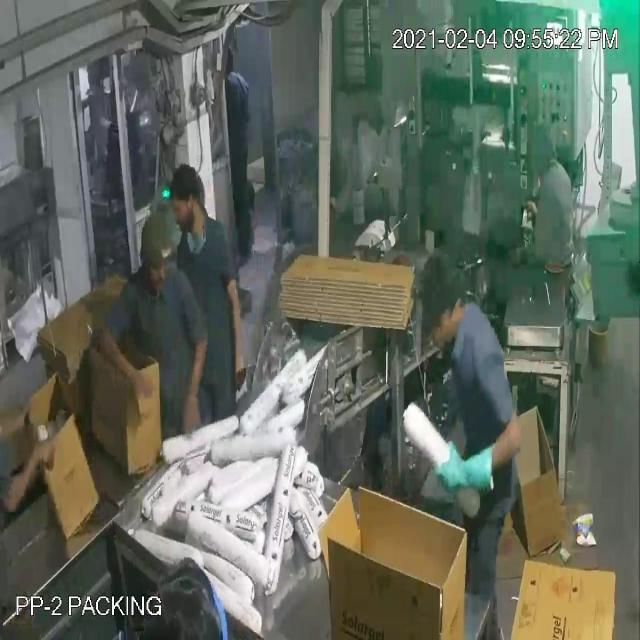No_Gloves: (19, 94, 457, 468)
